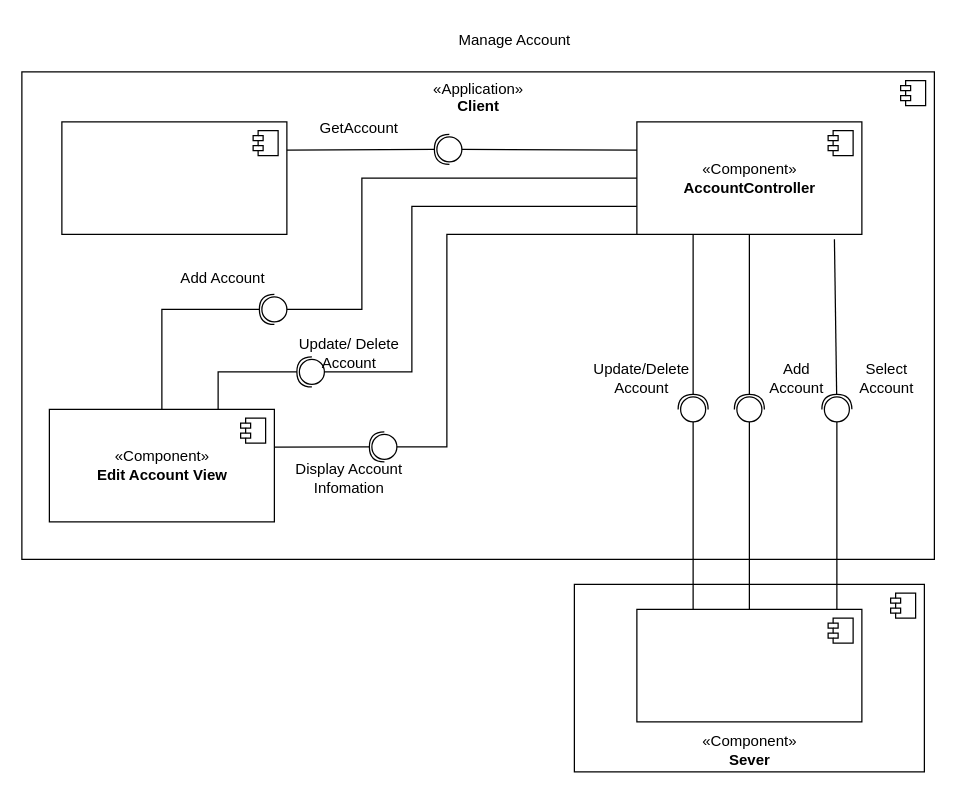
The diagram is 956 pixels wide and 794 high, and some of its shapes have lost their labels. The centre of each missing label's shape, as x and y in pixels:
"«Component» Account Model" belongs at point (749, 665).
"«Component» Account View" belongs at point (174, 177).
